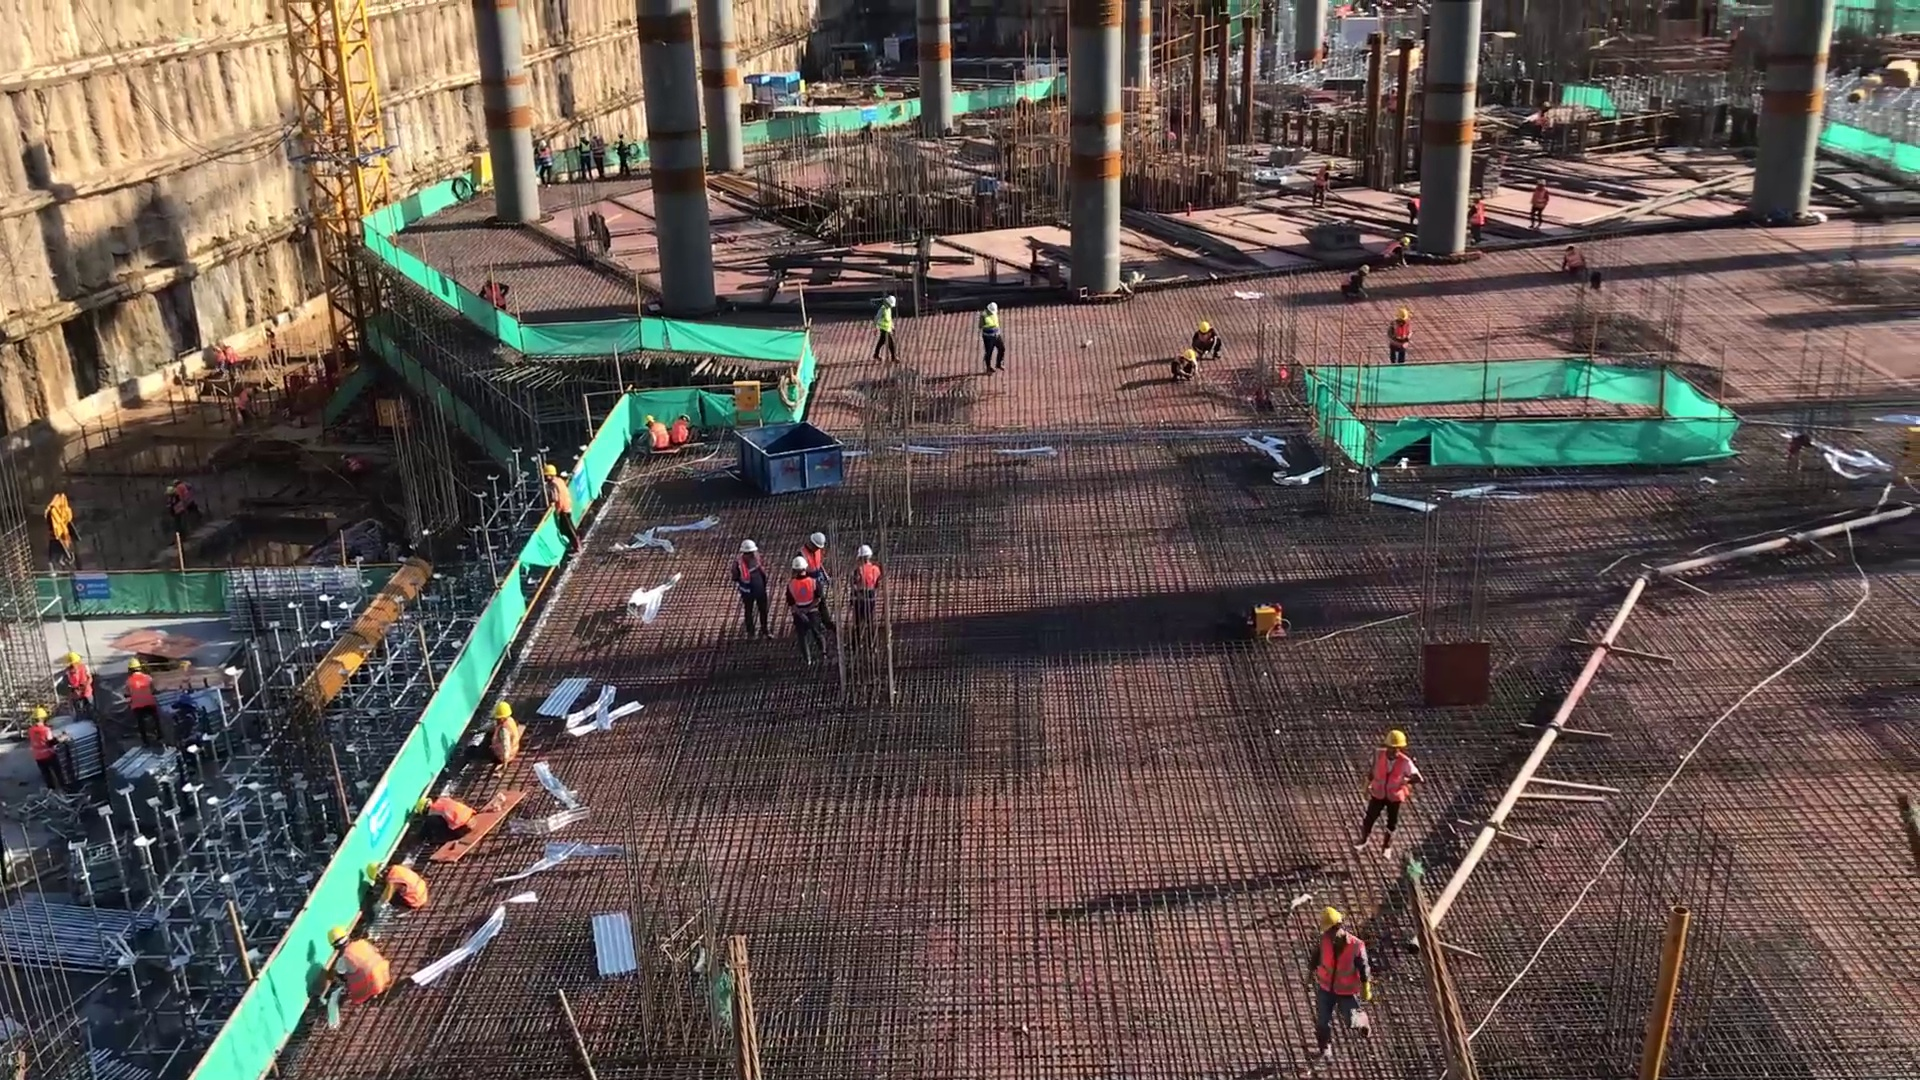ebox: (731, 375, 769, 432), (1250, 600, 1292, 642), (467, 150, 496, 202)
helmet: (1313, 901, 1348, 936), (1380, 725, 1411, 753), (489, 698, 517, 726), (322, 924, 351, 947), (738, 532, 763, 557), (850, 541, 877, 564), (361, 858, 385, 883), (409, 795, 434, 818), (787, 551, 809, 577), (804, 527, 827, 550), (62, 647, 84, 669), (123, 653, 144, 674), (28, 707, 48, 726), (538, 464, 561, 481), (1393, 304, 1411, 324), (675, 410, 692, 428), (1355, 261, 1373, 279), (1182, 343, 1197, 362), (882, 292, 899, 309), (1195, 319, 1214, 334), (984, 299, 1001, 315), (1398, 232, 1413, 248), (1535, 174, 1548, 188), (1468, 192, 1484, 205), (1564, 241, 1579, 253), (643, 414, 659, 425)
hook: (36, 483, 81, 574)
hopper: (731, 419, 848, 502)
person: (1289, 900, 1386, 1066), (1353, 723, 1435, 852), (314, 924, 397, 1014), (354, 850, 435, 927), (721, 528, 774, 642), (458, 692, 532, 774), (533, 460, 586, 560), (115, 651, 168, 752), (776, 556, 825, 659), (21, 703, 75, 794), (833, 539, 886, 628), (406, 792, 483, 848), (972, 298, 1016, 382), (865, 283, 903, 369), (55, 648, 99, 722), (1382, 298, 1421, 370), (796, 528, 836, 594), (1186, 311, 1227, 367), (1161, 345, 1204, 392), (635, 404, 674, 453), (1524, 173, 1555, 233), (1336, 259, 1375, 304), (1377, 232, 1416, 273), (1463, 192, 1490, 245), (663, 406, 696, 450), (1558, 245, 1589, 284)
scaffold: (222, 560, 367, 632)
vest: (334, 937, 397, 1011), (1313, 933, 1369, 1000), (1366, 750, 1412, 808), (383, 865, 429, 913), (425, 796, 480, 834), (845, 558, 881, 610), (487, 716, 527, 760), (25, 724, 60, 763), (125, 672, 160, 714), (784, 579, 823, 615), (547, 478, 575, 520), (65, 666, 95, 700), (873, 301, 899, 338), (734, 560, 759, 599), (640, 424, 672, 451), (977, 317, 1004, 347), (1389, 318, 1415, 347), (802, 548, 825, 580), (670, 415, 689, 447), (1468, 206, 1489, 229), (1561, 252, 1584, 271), (1380, 240, 1402, 260), (1529, 188, 1548, 210), (1342, 273, 1363, 293)
